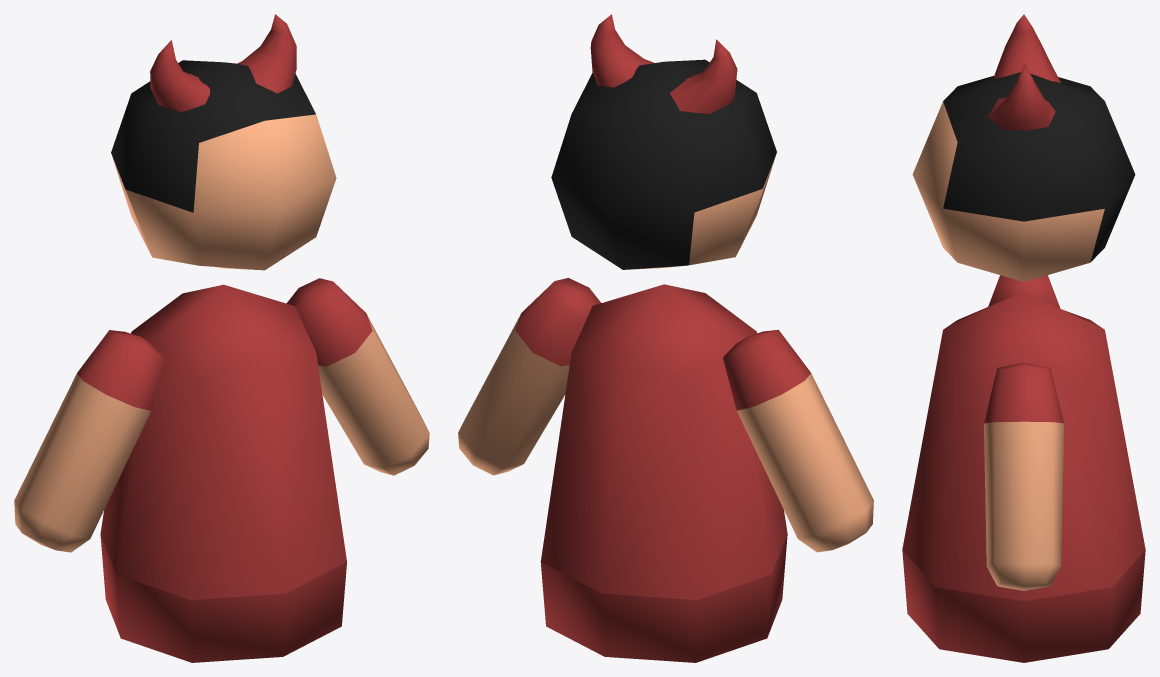
Rendered from Devil.fbx.
3 views of the same model, side by side, from view 1: azimuth 30°, elevation 25°; view 2: azimuth 150°, elevation 25°; view 3: azimuth 270°, elevation 25° (orthographic). The views are drawn at different scales.
Visible parts, largest first — view 1: Devil; view 2: Devil; view 3: Devil.
Part boxes in pixels (bbox=[...]): Devil: bbox=[14, 14, 429, 662]; Devil: bbox=[458, 14, 873, 662]; Devil: bbox=[902, 14, 1145, 662].
Size of the model in its own units: 137 by 199 by 73.8.
